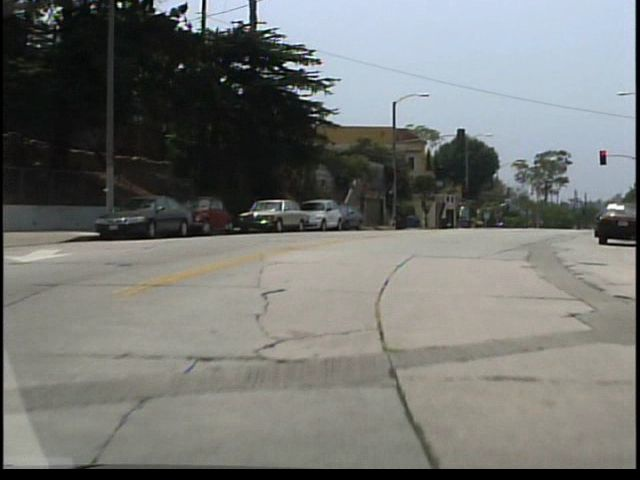person: (461, 204, 471, 230)
